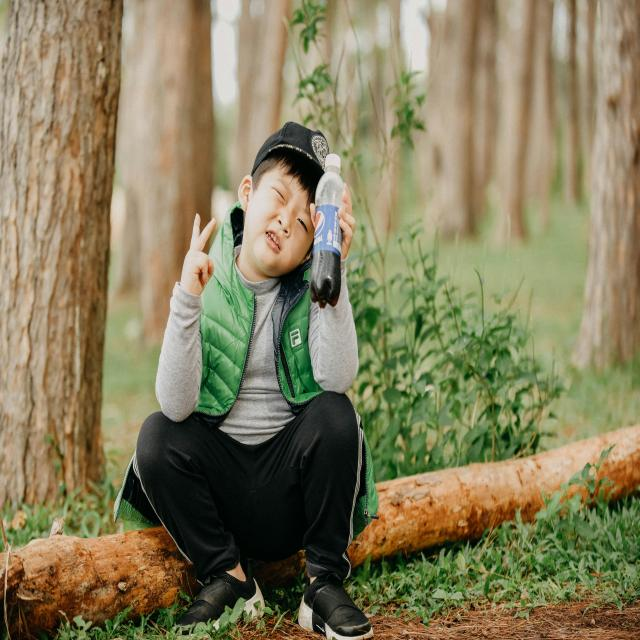bottle: (308, 152, 345, 309)
